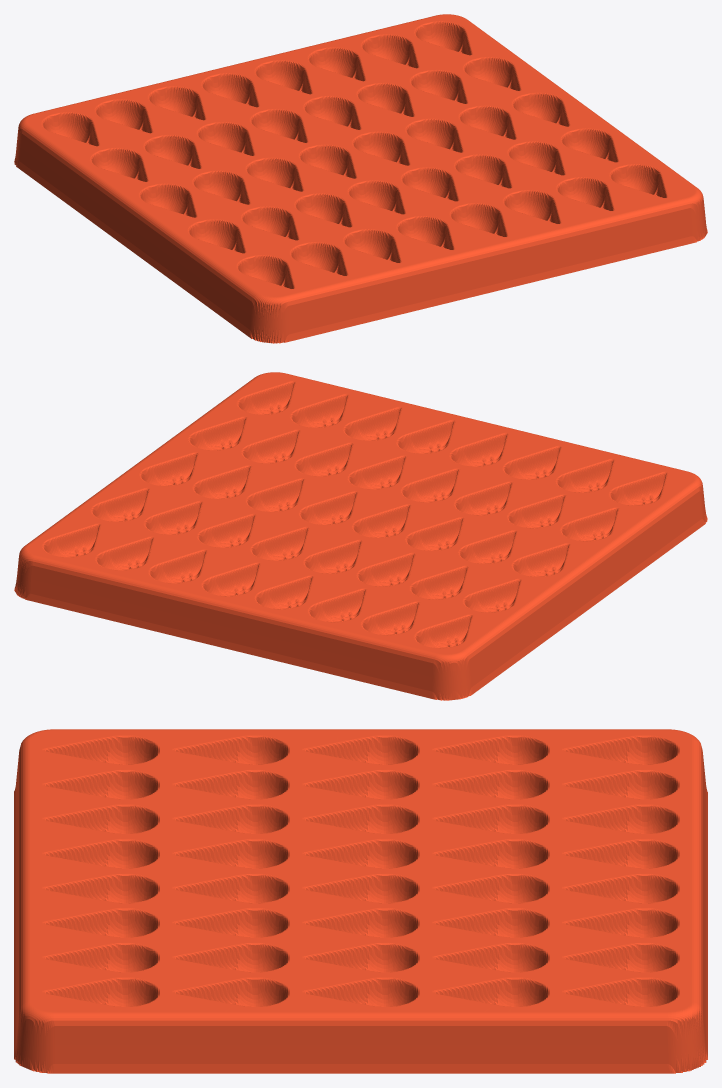
The model's file is mold.glb.
3 views of the same model, one above another, from view 1: azimuth 30°, elevation 25°; view 2: azimuth 150°, elevation 25°; view 3: azimuth 270°, elevation 25° (orthographic). The views are drawn at different scales.
Visible parts, largest first — view 1: geometry_0; view 2: geometry_0; view 3: geometry_0.
Boxes of the visible parts, x1,y1,x2,y2 form: geometry_0: (14,14,707,343); geometry_0: (14,372,707,700); geometry_0: (14,729,707,1073).
Size of the model in its own units: 0.1583 by 0.0136 by 0.1571.
